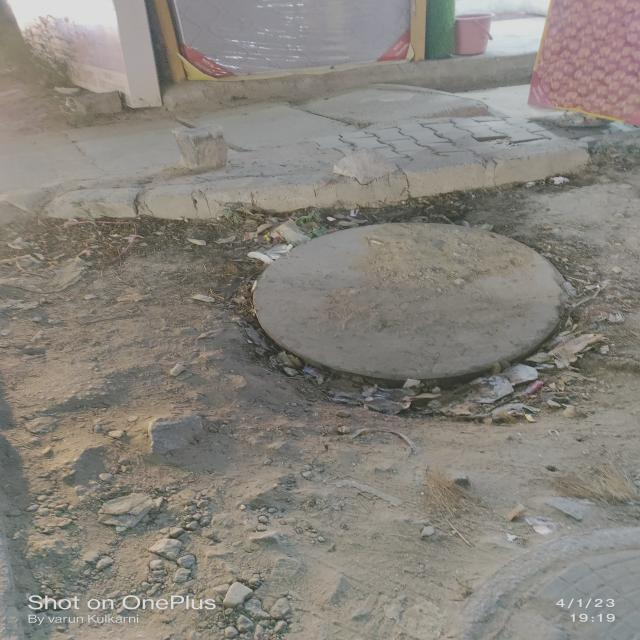potholes: (251, 201, 577, 381)
